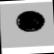correct: (15, 9, 47, 34)
